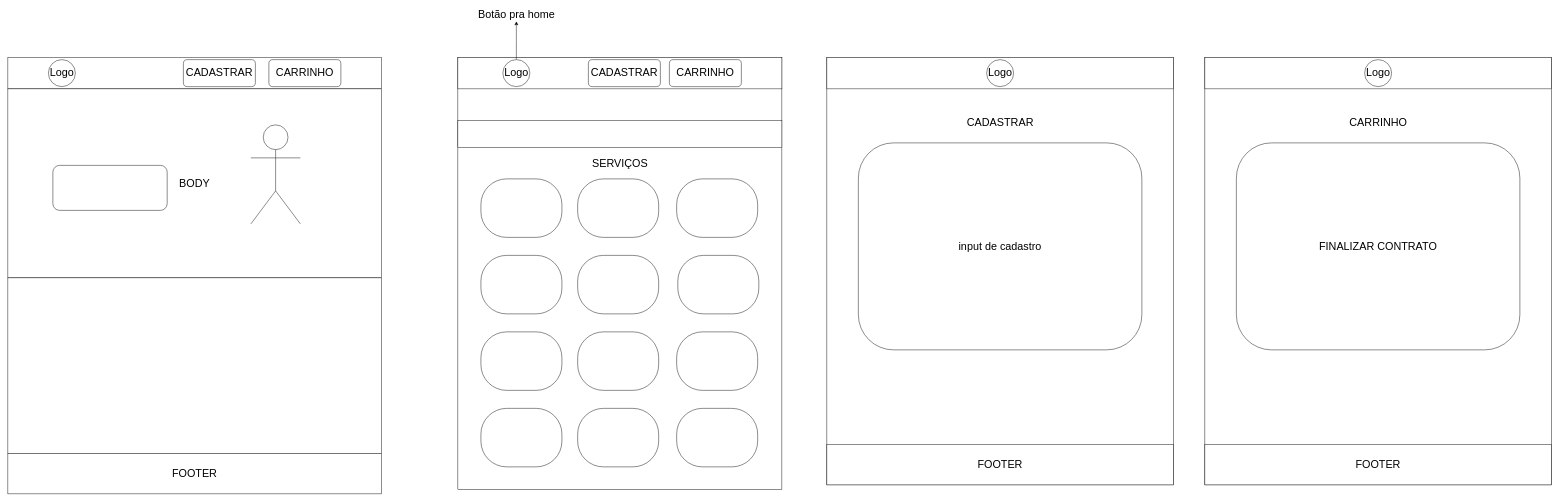
Image size: 1559x502. Some labels were removed from this diagram. Here are the shapes that lost their labels. From the top down, the centre of each, then its label:
At pixel 619 133: "Filtros".
At pixel 109 187: "BTN - SERVIÇOS".
At pixel 275 174: "Ninja".
At pixel 194 365: "QUEM SOMOS".
